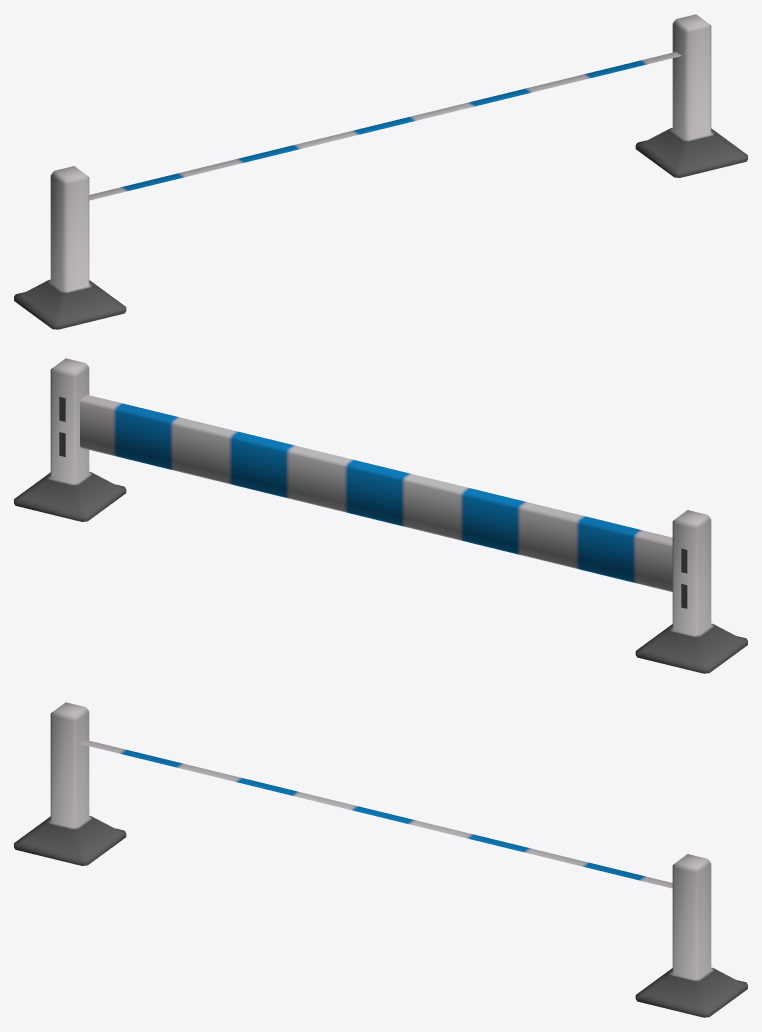
File: ObstacleRoadWorksBarrierLow_Death.glb
3 renders of one model, top to bottom at view 1: azimuth 30°, elevation 25°; view 2: azimuth 150°, elevation 25°; view 3: azimuth 330°, elevation 25°, orthographic.
Visible parts, largest first — view 1: RoadWorksBarrierLow; view 2: RoadWorksBarrierLow; view 3: RoadWorksBarrierLow.
Boxes of the visible parts, box(x1,y1,x2,y2) form: RoadWorksBarrierLow: box(14, 14, 747, 329); RoadWorksBarrierLow: box(14, 358, 747, 673); RoadWorksBarrierLow: box(14, 702, 747, 1017).
Size of the model in its own units: 4.02 by 0.7362 by 0.4257.
